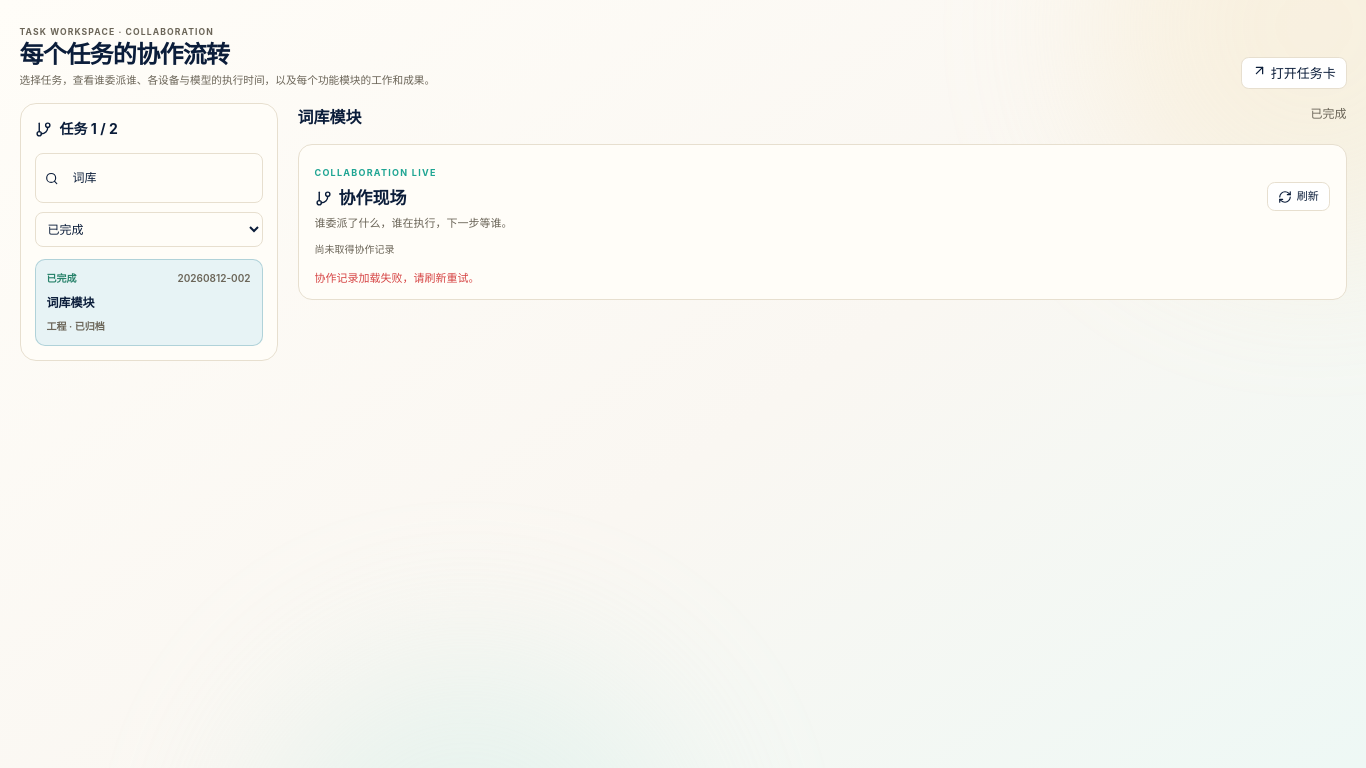
Test: 每任务协作工作台 › 搜索和状态可恢复，未找到时提示筛选原因
This screenshot has width=1366, height=768.
Expected: the button "已完成 20260812-002 词库模块 工程 · 已归档" is shown, x1=34 y1=259 x2=262 y2=346
Step 1. Replace the text in the field named "搜索协作任务" with "无结果" → (158, 178), box x1=64 y1=162 x2=252 y2=194
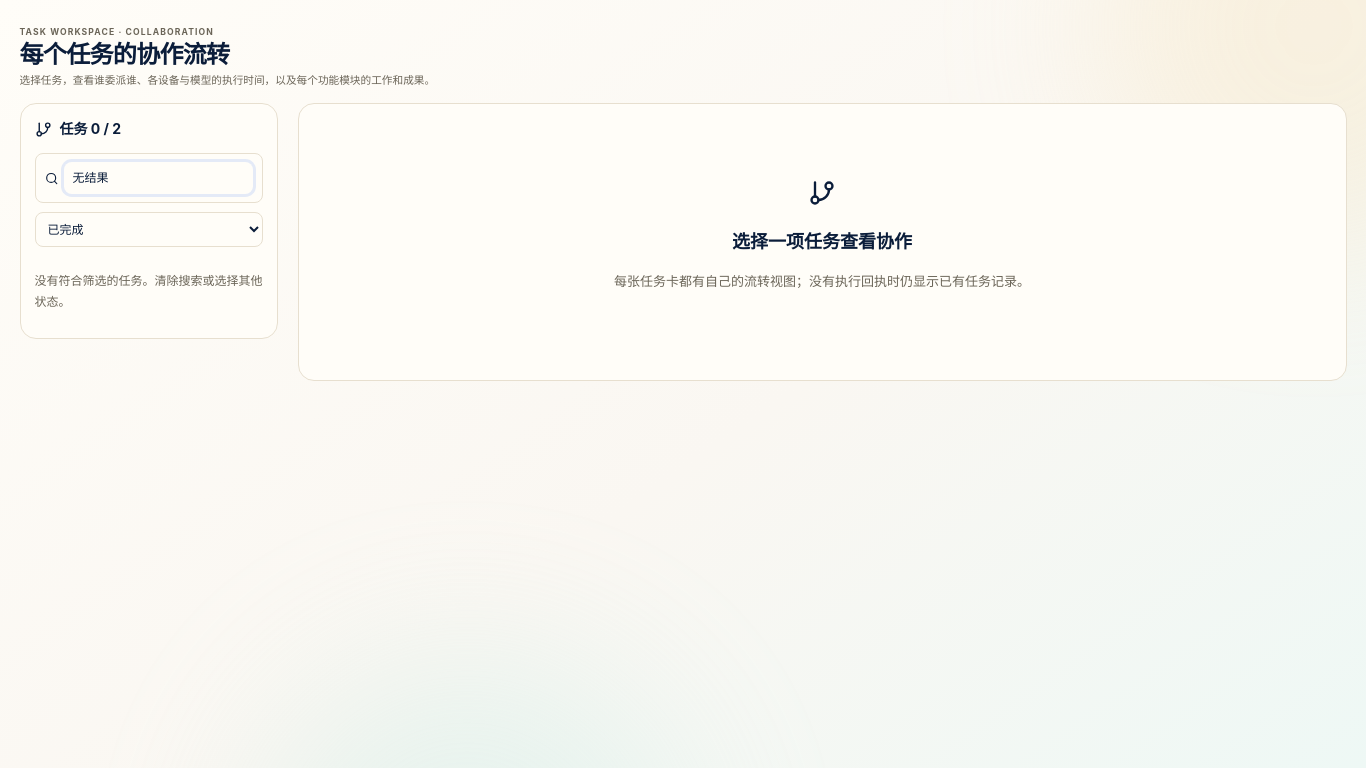
Expected: the text "没有符合筛选的任务。清除搜索或选择其他状态。" is shown, x1=34 y1=271 x2=262 y2=312
